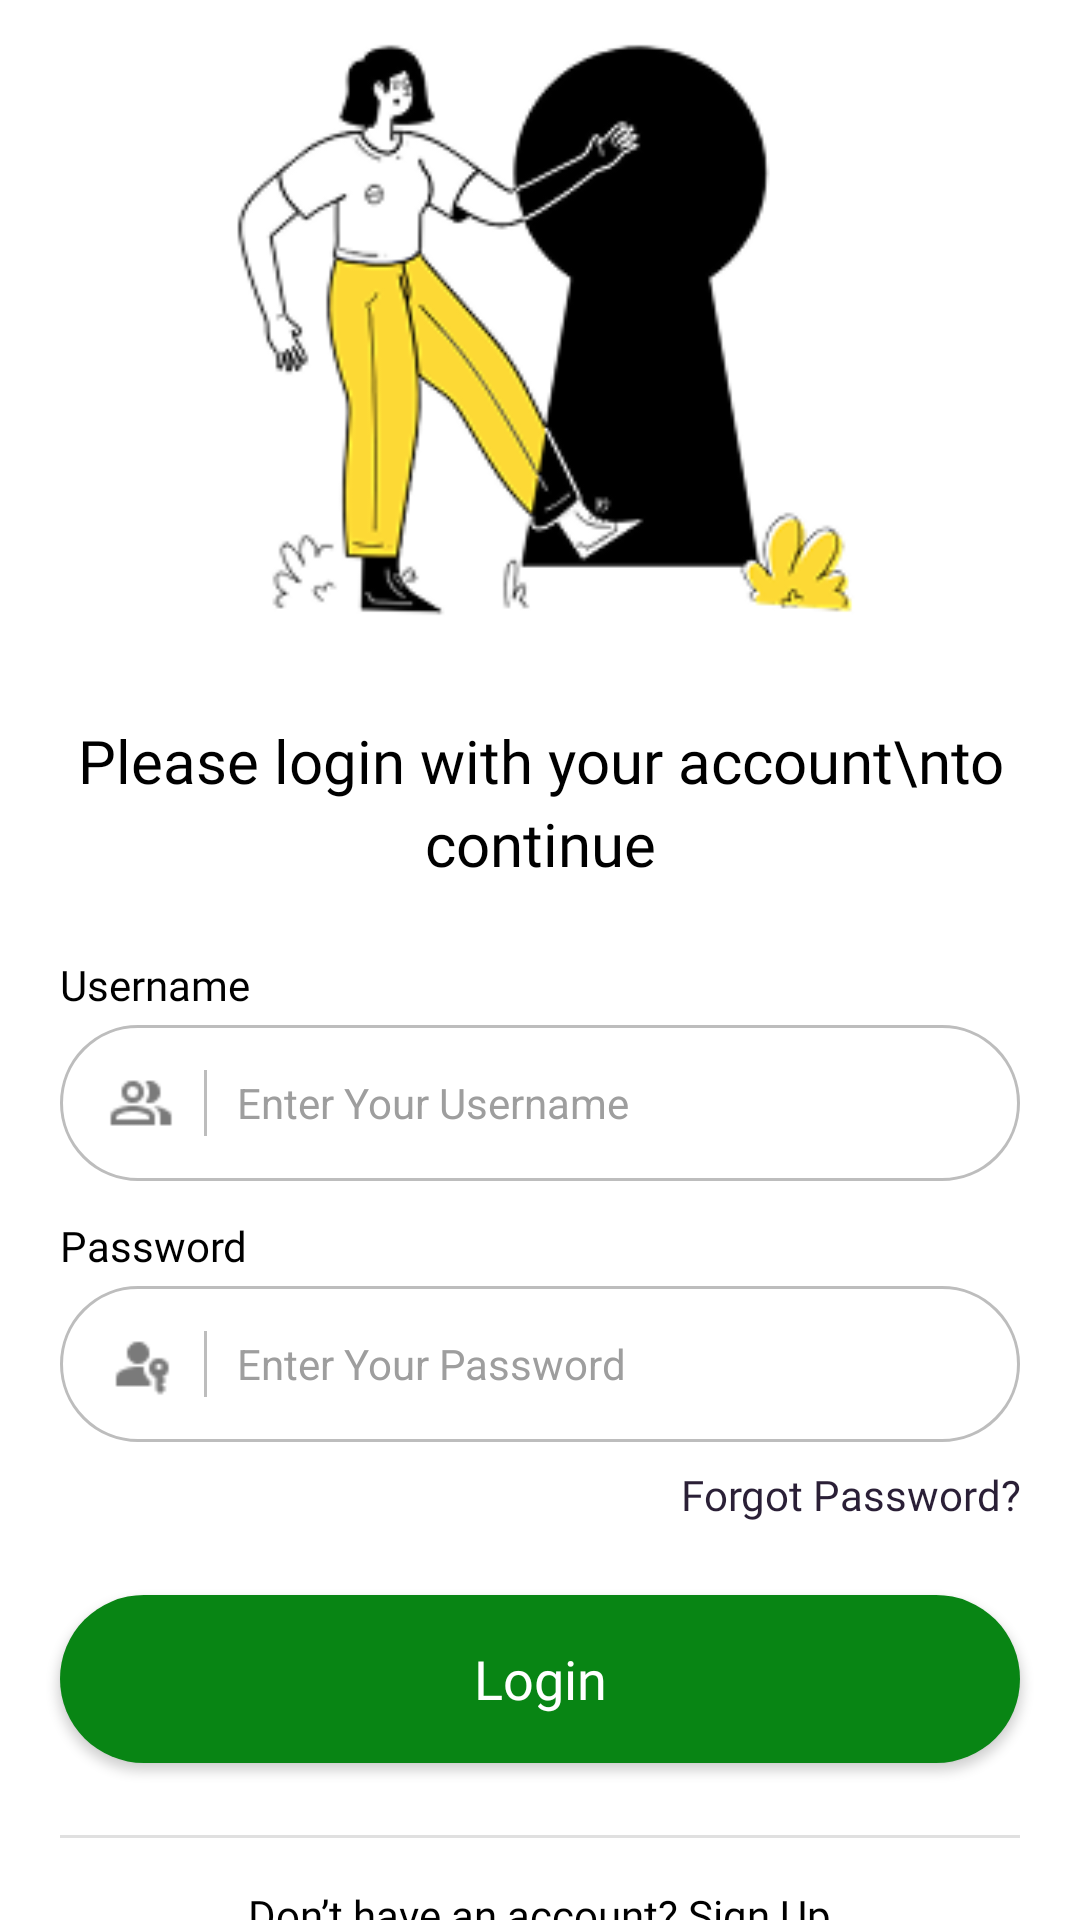

Locate icon controls on the screen. Image size 1080 x 1920, boxes as detection(x1, y1, x2, y2).
passkey: detection(115, 1341, 169, 1395)
